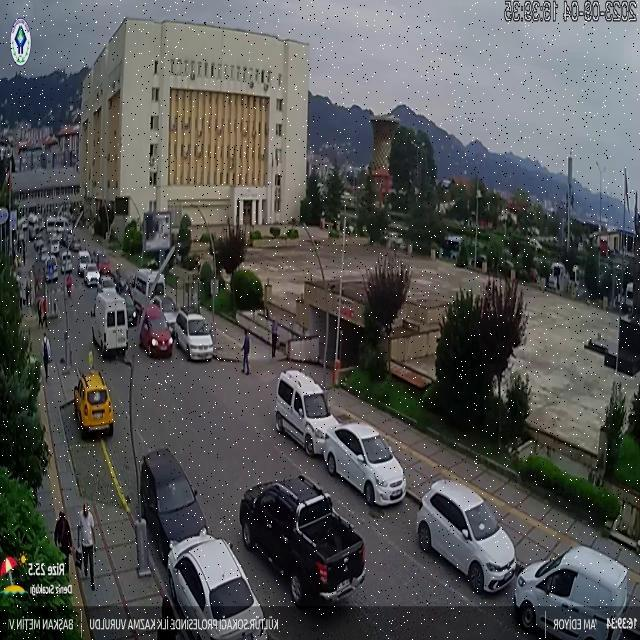Car: (238, 475, 368, 610), (417, 480, 518, 594), (319, 422, 405, 505), (74, 370, 117, 437), (174, 308, 214, 361), (139, 303, 174, 358), (115, 290, 136, 325), (83, 263, 101, 288), (44, 257, 59, 283), (76, 251, 90, 275), (60, 252, 74, 274), (97, 260, 112, 278), (100, 274, 115, 289), (34, 237, 45, 255), (50, 239, 60, 256), (69, 239, 81, 253), (40, 249, 50, 264)
Cycle: (65, 273, 73, 297)
Van: (514, 545, 632, 639), (275, 370, 340, 456), (91, 289, 129, 356), (132, 269, 167, 317)
